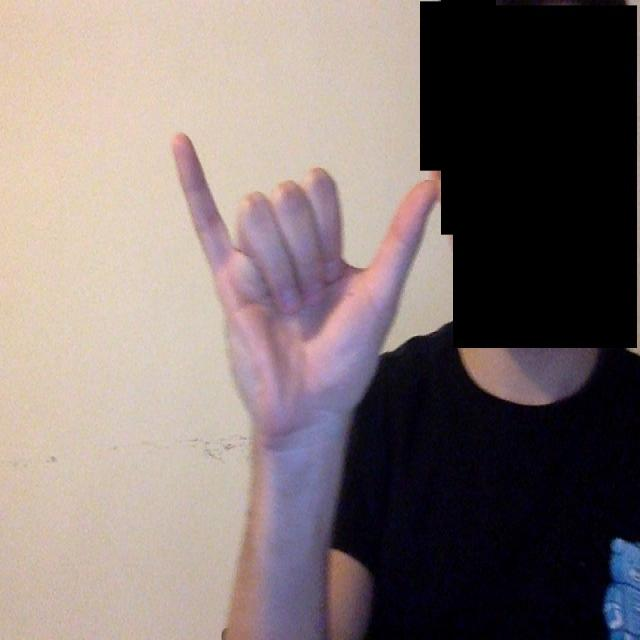Y: (159, 104, 468, 434)
